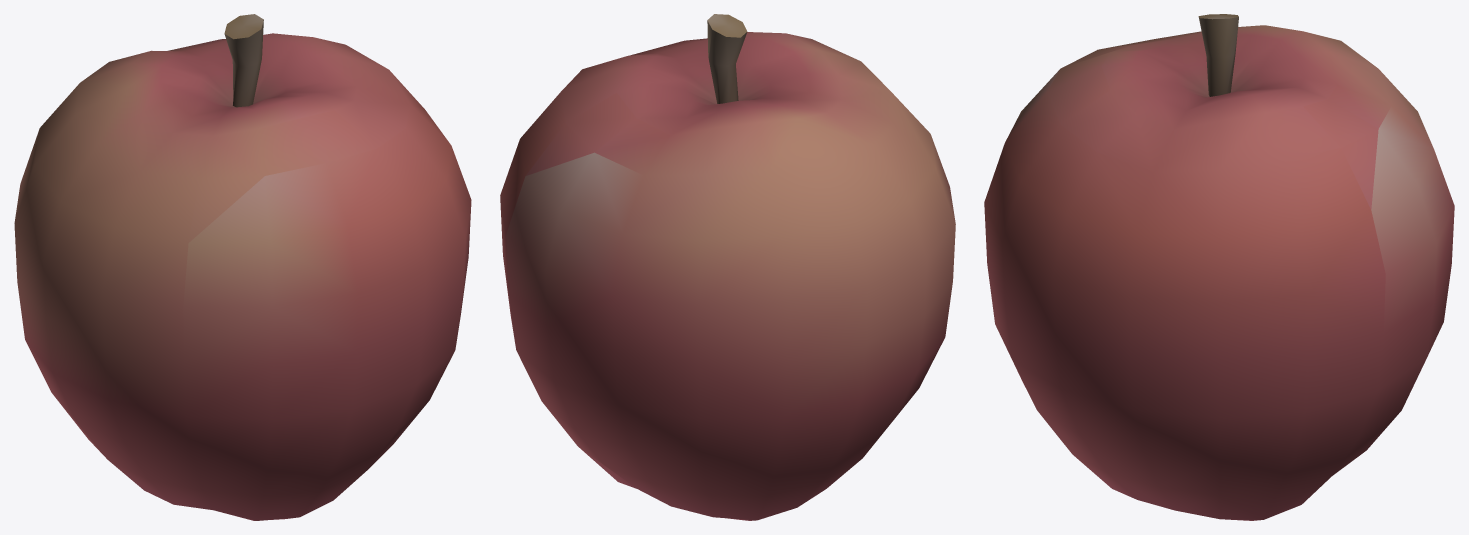
The model's file is apple.glb.
The picture shows the model from 3 angles, left to right: view 1: azimuth 30°, elevation 25°; view 2: azimuth 150°, elevation 25°; view 3: azimuth 270°, elevation 25°; orthographic projection. The views are drawn at different scales.
Parts seen in each view (by area): view 1: Apple_mesh; view 2: Apple_mesh; view 3: Apple_mesh.
Boxes of the visible parts, bbox=[...] form: Apple_mesh: bbox=[14, 14, 471, 520]; Apple_mesh: bbox=[500, 14, 955, 520]; Apple_mesh: bbox=[984, 14, 1454, 520].
Size of the model in its own units: 0.9451 by 1.06 by 0.9451.
